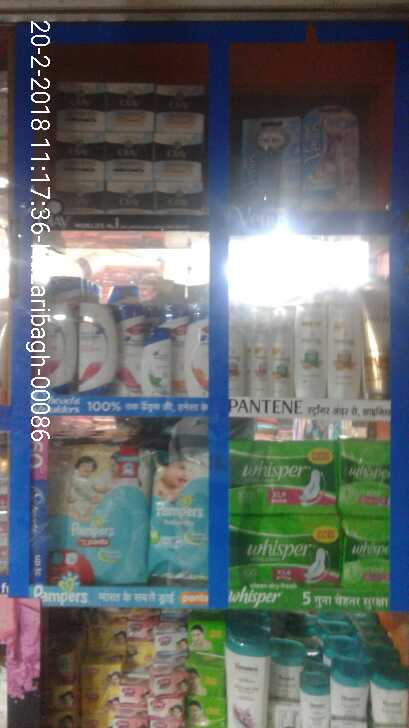venus: (303, 104, 358, 208), (246, 119, 303, 208)
